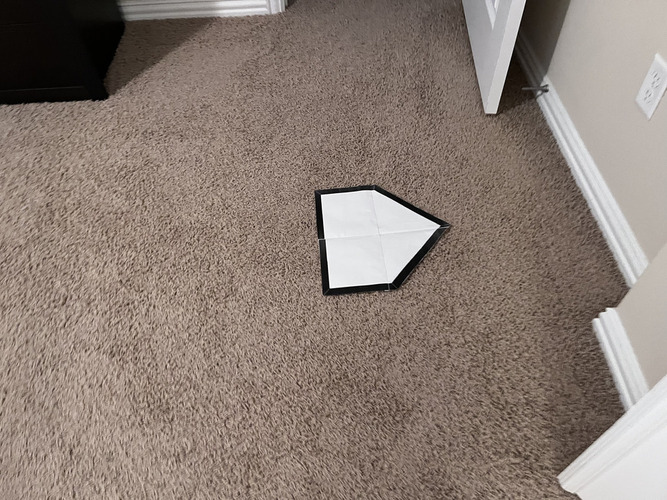homeplate: (314, 184, 453, 300)
